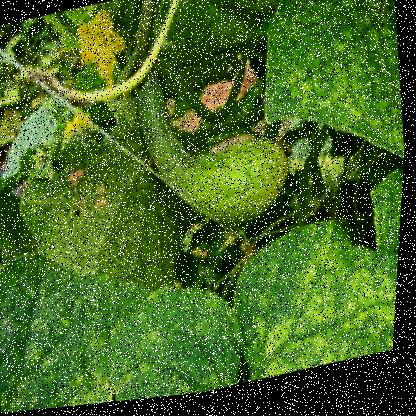DownyMildew: (281, 0, 415, 194), (253, 228, 403, 385), (0, 264, 130, 414), (121, 299, 250, 404)
